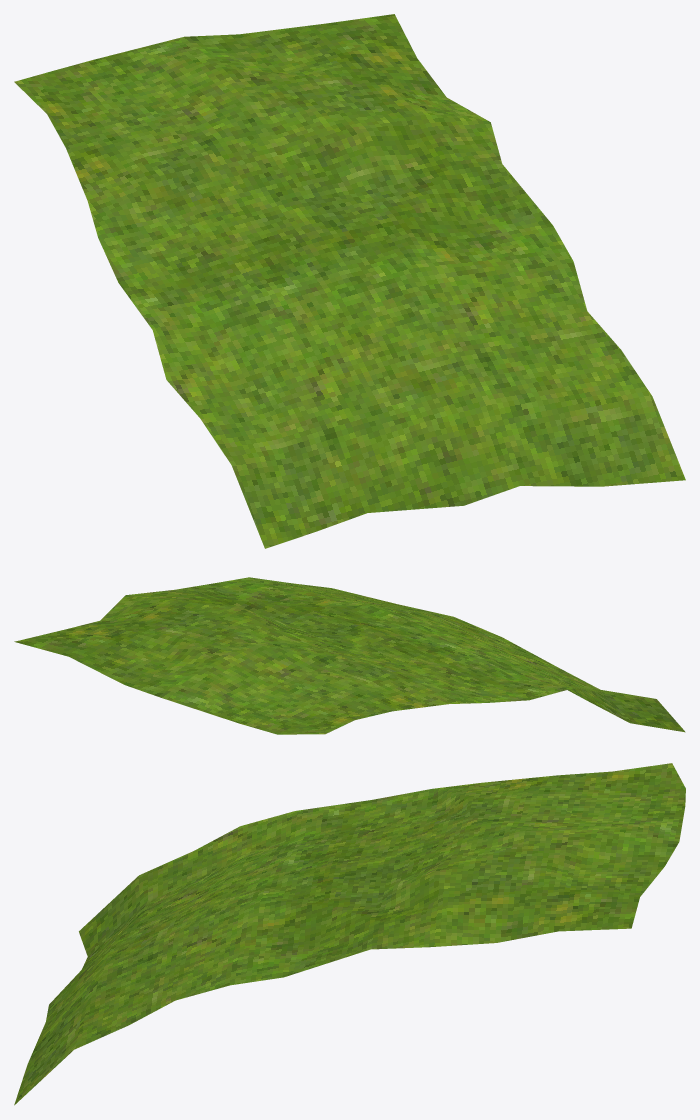
Rendered from Grass.glb.
3 views of the same model, one above another, from view 1: azimuth 30°, elevation 25°; view 2: azimuth 150°, elevation 25°; view 3: azimuth 270°, elevation 25° (orthographic). The views are drawn at different scales.
Visible parts, largest first — view 1: Plane.008; view 2: Plane.008; view 3: Plane.008.
Boxes of the visible parts, x1=… form: Plane.008: x1=14, y1=14, x2=685, y2=548; Plane.008: x1=14, y1=577, x2=685, y2=734; Plane.008: x1=14, y1=763, x2=685, y2=1105.
Bounding box in the file's own units: 6.04 × 2.89 × 8.64.
Materials: 1 (1 with a texture image).
